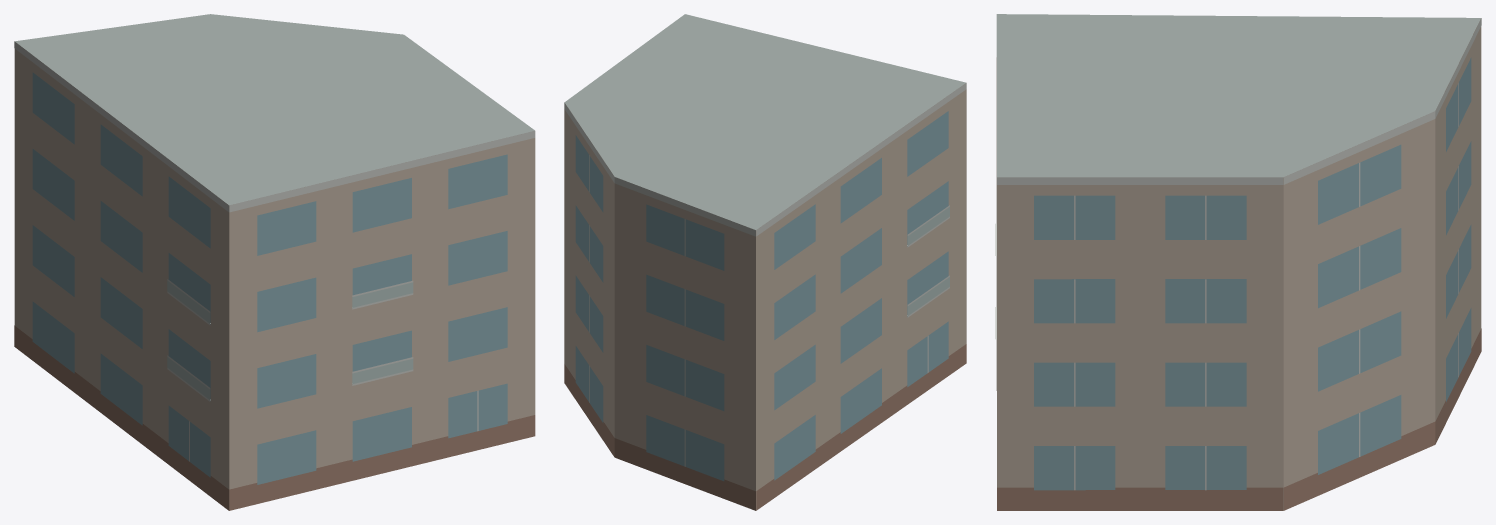
Rendered from survey-upis-32489151.glb.
The picture shows the model from 3 angles, left to right: view 1: azimuth 30°, elevation 25°; view 2: azimuth 150°, elevation 25°; view 3: azimuth 270°, elevation 25°; orthographic projection. The views are drawn at different scales.
Parts seen in each view (by area): view 1: survey-upis-32489151.tmp; view 2: survey-upis-32489151.tmp; view 3: survey-upis-32489151.tmp.
Part boxes in pixels (x1,y1,x2,y2): survey-upis-32489151.tmp: [14, 14, 535, 510]; survey-upis-32489151.tmp: [564, 14, 966, 510]; survey-upis-32489151.tmp: [995, 14, 1481, 510].
Bounding box in the file's own units: 11.04 × 10.5 × 13.87.
